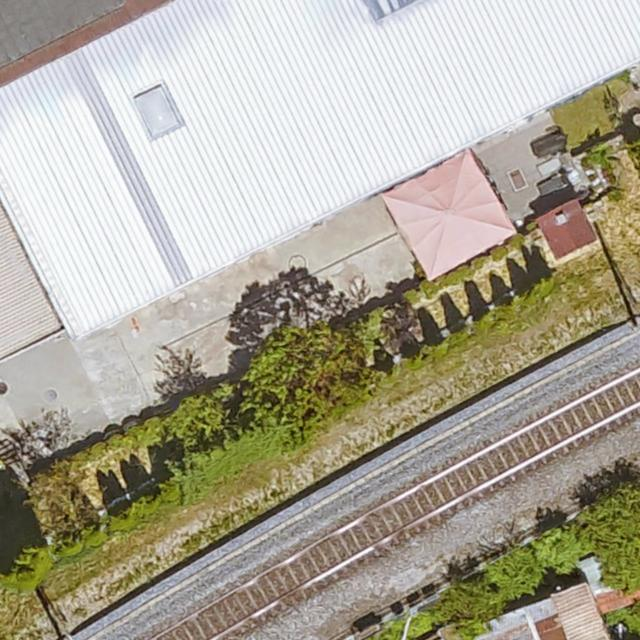tree: (243, 337, 365, 427), (585, 490, 640, 595), (167, 388, 243, 452), (435, 581, 505, 640), (0, 541, 54, 598), (482, 548, 546, 596), (28, 476, 83, 528), (535, 529, 593, 575), (108, 505, 139, 539), (449, 322, 479, 353), (378, 364, 405, 397), (136, 487, 161, 522), (402, 352, 430, 382), (157, 480, 183, 509), (427, 338, 453, 366), (497, 300, 520, 330), (478, 314, 499, 341), (518, 287, 539, 311), (538, 275, 553, 295)
